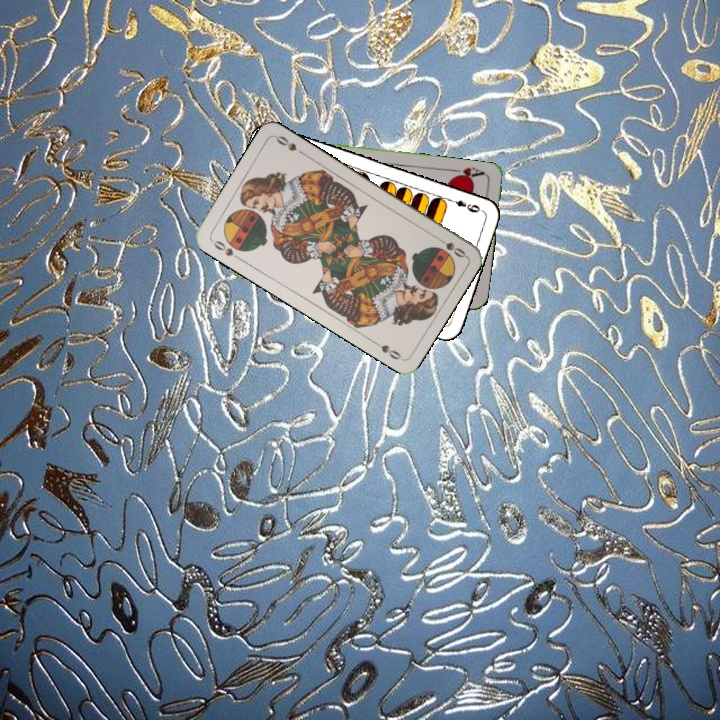E9: (445, 195, 483, 215)
HA: (447, 163, 487, 183)
SO: (431, 232, 468, 260), (208, 236, 244, 263)
